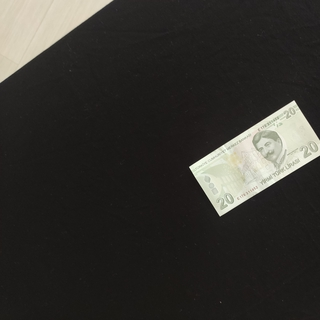20TLBack: (189, 99, 320, 217)
